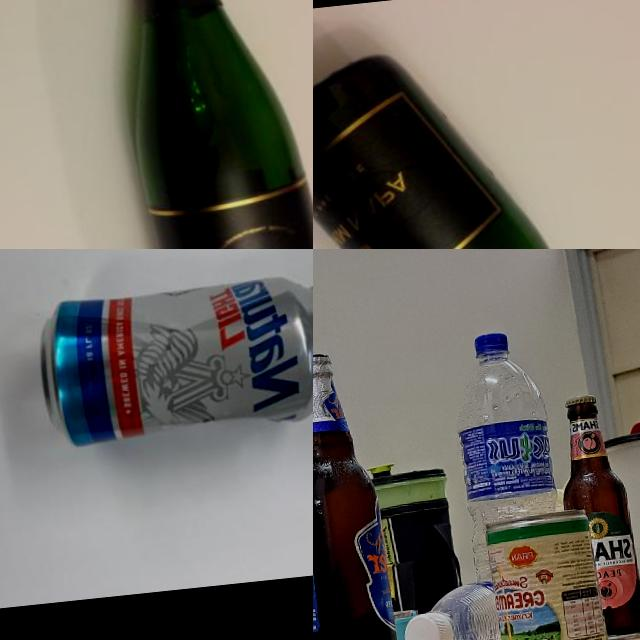garrafa de vidro: (313, 26, 640, 249), (100, 0, 313, 249), (313, 351, 394, 640), (551, 389, 640, 637)
garrafa plástica: (452, 328, 571, 638), (400, 575, 505, 640)
lata: (31, 269, 313, 452), (487, 504, 606, 640)
tampa plástica: (399, 606, 457, 640), (470, 332, 514, 363)
